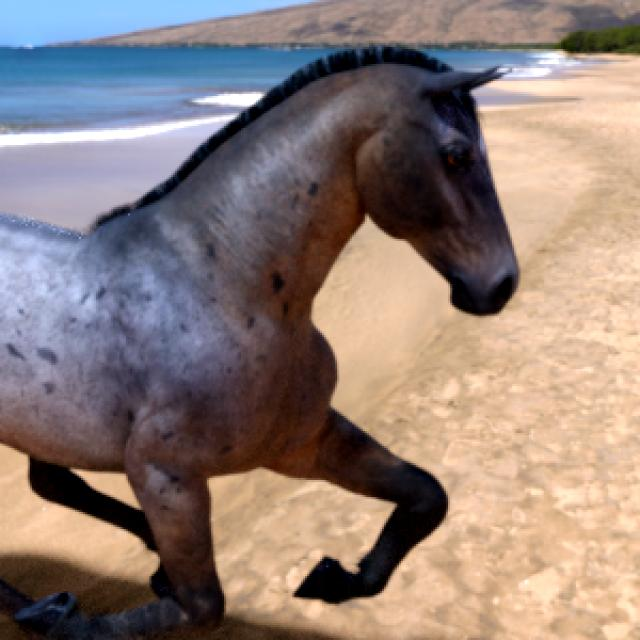horse: (0, 48, 518, 640)
